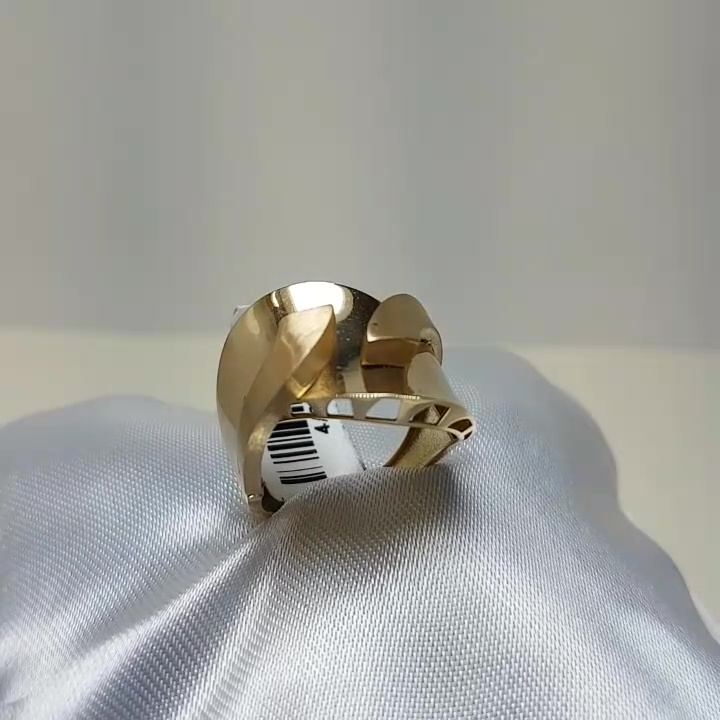Ring 4: (200, 269, 475, 550)
